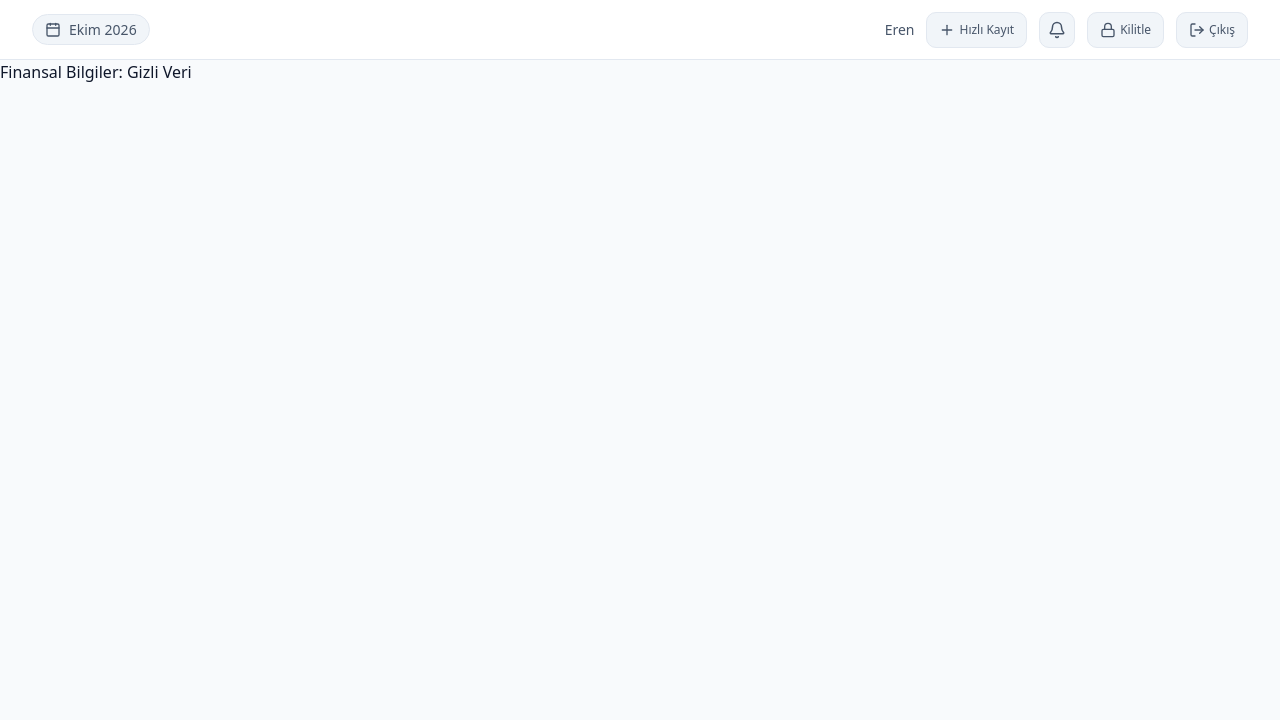
Manual Lock Action — TopBar Kilitle & Step-Up Unlock › completing step-up reauth unlocks application without creating a new session
Click the button with test id "manual-lock-btn". click: coordinates (1126, 30)
box: [1087,12,1164,48]
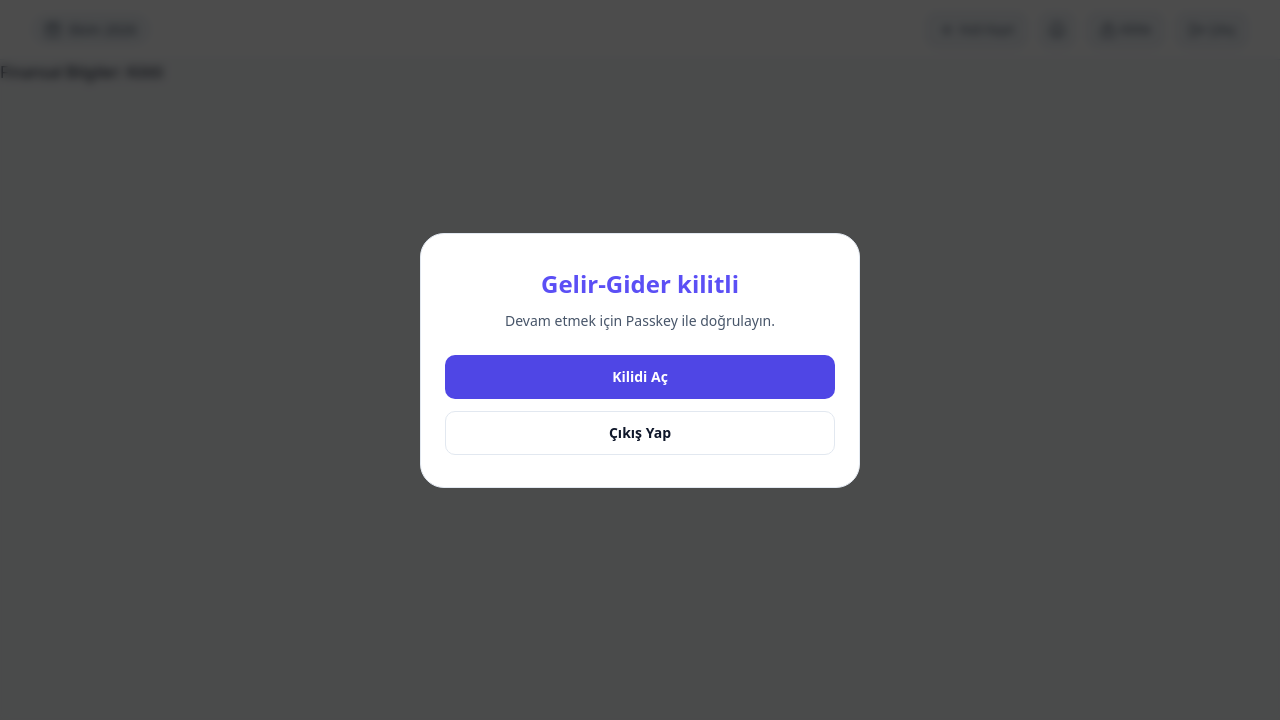
// Click reauth button
Click the button "Kilidi Aç". click: coordinates (640, 376)
box: [445,354,835,398]
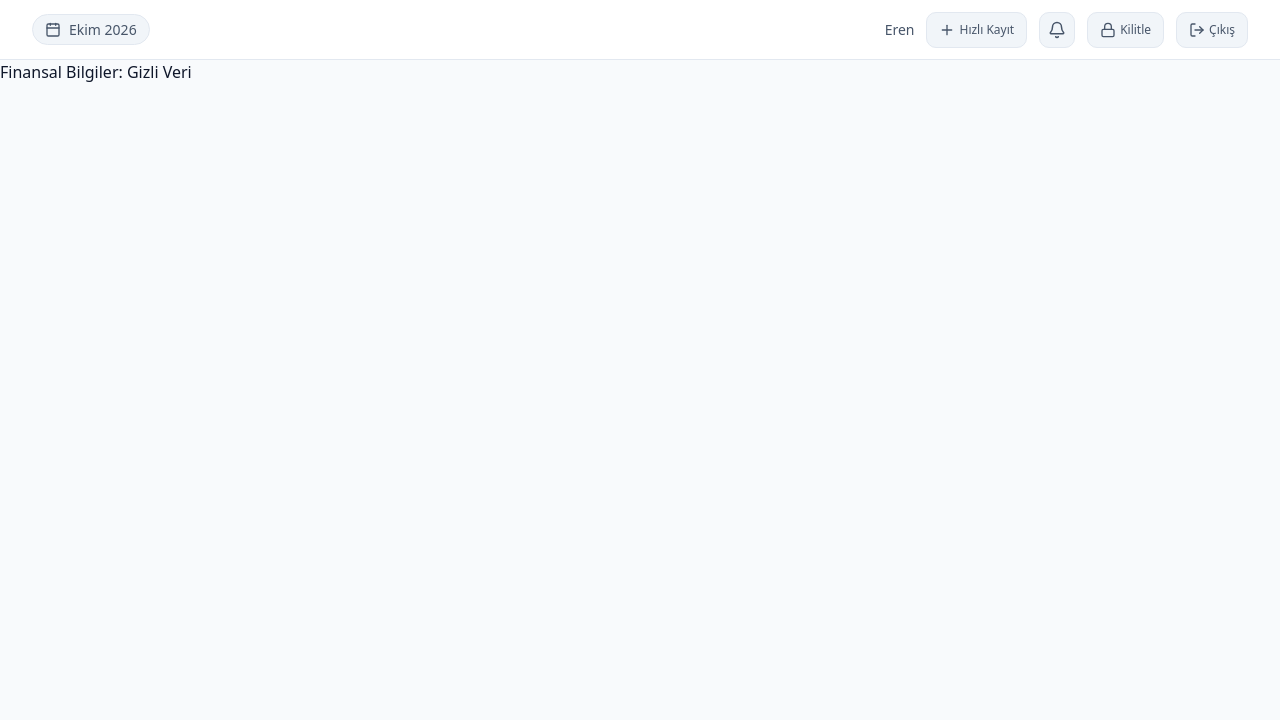
Result: the text "Finansal Bilgiler: Gizli Veri" is shown at [0,61,192,83]
